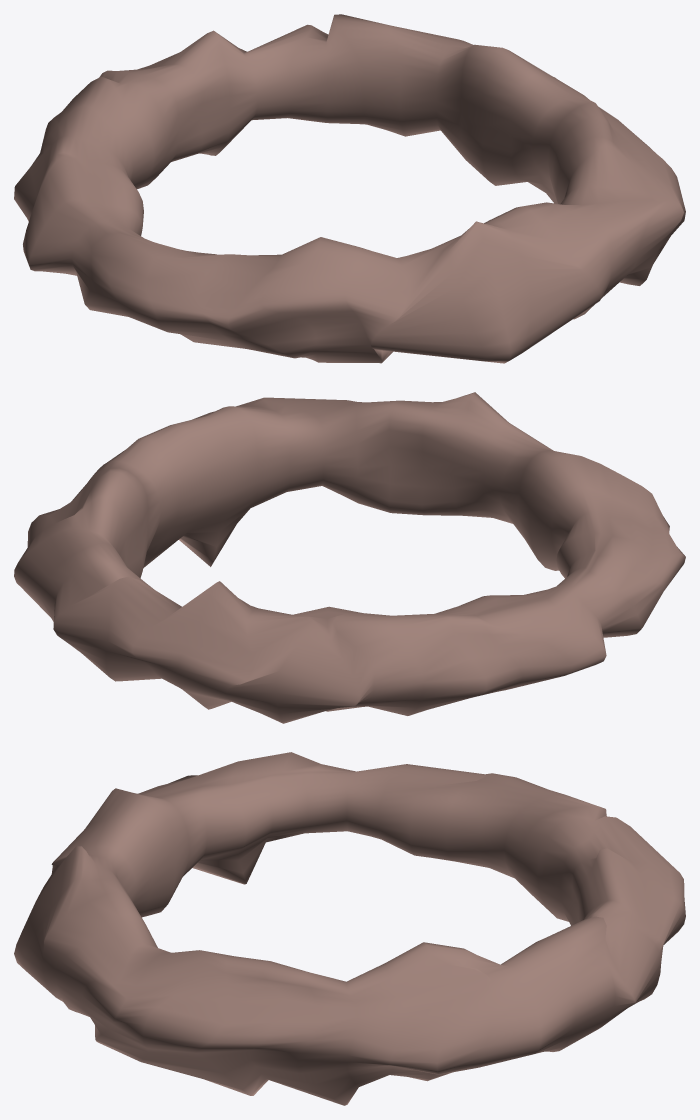
The model's file is Cell_wall.fbx.
3 renders of one model, top to bottom at view 1: azimuth 30°, elevation 25°; view 2: azimuth 150°, elevation 25°; view 3: azimuth 270°, elevation 25°, orthographic. The views are drawn at different scales.
Visible parts, largest first — view 1: Cell_Wall; view 2: Cell_Wall; view 3: Cell_Wall.
Boxes of the visible parts, x1=… form: Cell_Wall: x1=14, y1=14, x2=685, y2=363; Cell_Wall: x1=14, y1=392, x2=685, y2=723; Cell_Wall: x1=14, y1=752, x2=685, y2=1105.
Bounding box in the file's own units: 28.46 × 7.61 × 28.92.
